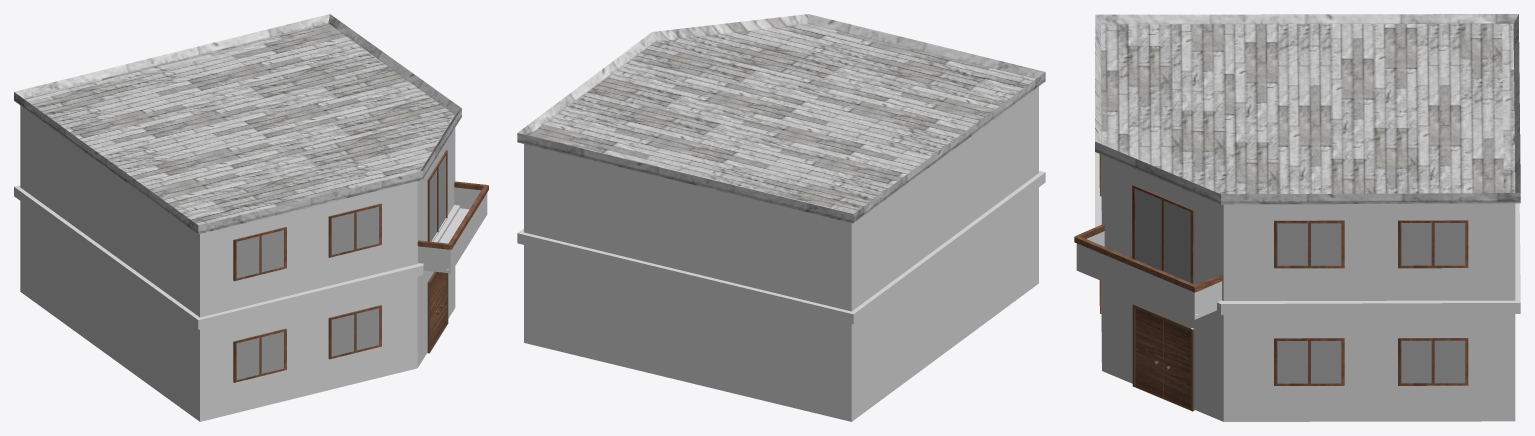
Rendered from OLD_HOUSE_06.fbx.
3 views of the same model, side by side, from view 1: azimuth 30°, elevation 25°; view 2: azimuth 150°, elevation 25°; view 3: azimuth 270°, elevation 25° (orthographic). The views are drawn at different scales.
Visible parts, largest first — view 1: OLD_HOUSE_06; view 2: OLD_HOUSE_06; view 3: OLD_HOUSE_06.
Boxes of the visible parts, bbox=[...] form: OLD_HOUSE_06: bbox=[14, 14, 488, 421]; OLD_HOUSE_06: bbox=[517, 14, 1045, 421]; OLD_HOUSE_06: bbox=[1074, 14, 1520, 421].
Bounding box in the file's own units: 1208 × 690 × 1205.
